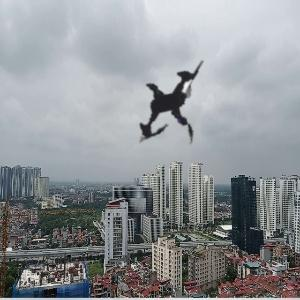drone: (96, 24, 257, 185)
